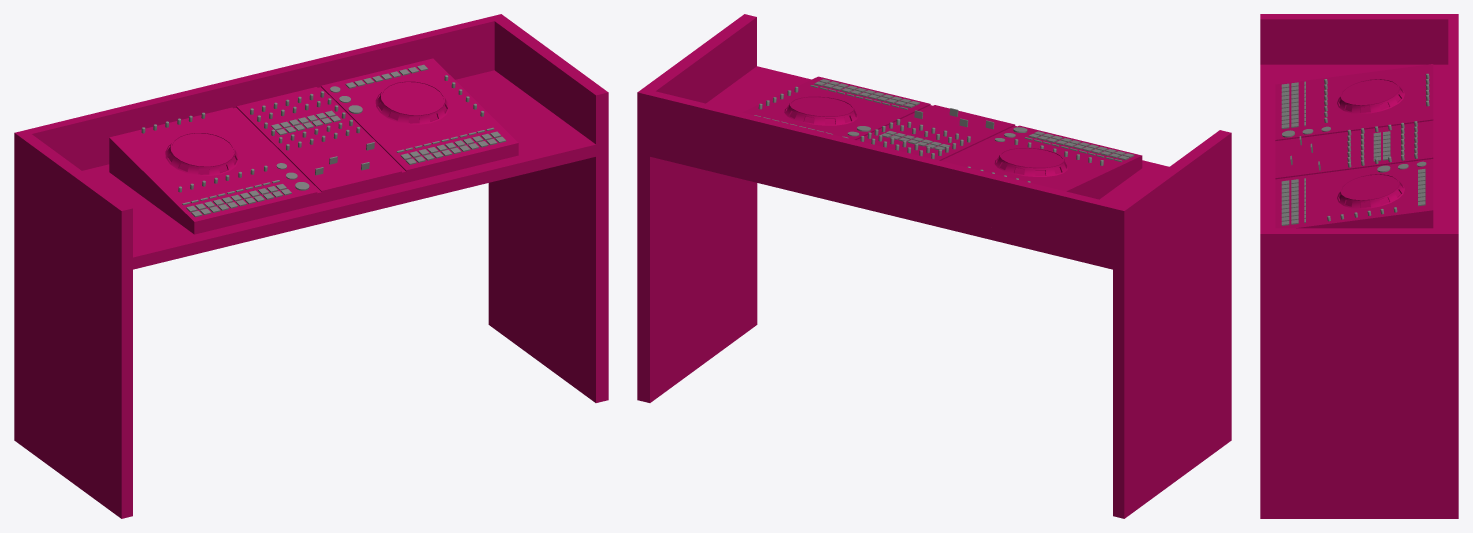
File: Table_DJ.fbx
3 renders of one model, left to right at view 1: azimuth 30°, elevation 25°; view 2: azimuth 150°, elevation 25°; view 3: azimuth 270°, elevation 25°, orthographic. The views are drawn at different scales.
Visible parts, largest first — view 1: Table; view 2: Table; view 3: Table.
Part boxes in pixels (<box>): Table: <box>14,14,608,518</box>; Table: <box>637,14,1231,518</box>; Table: <box>1260,14,1458,518</box>.
Size of the model in its own units: 210 by 127 by 80.
